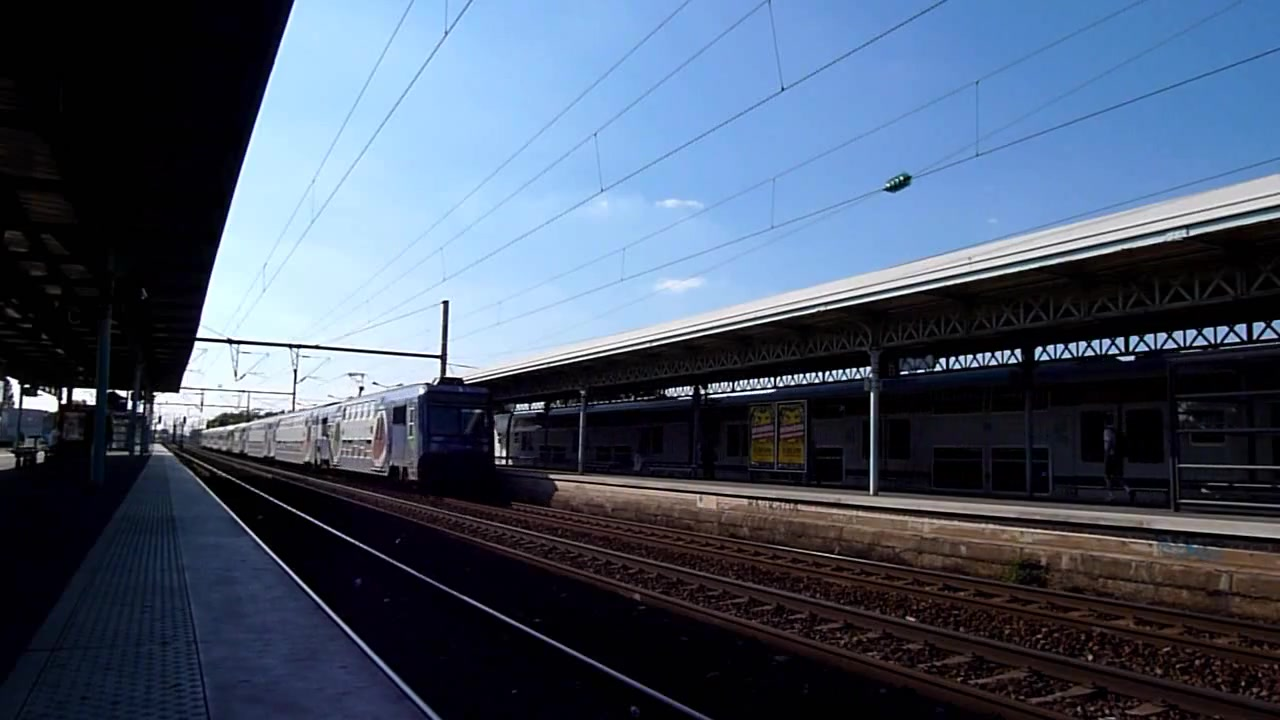train: (197, 378, 500, 485)
